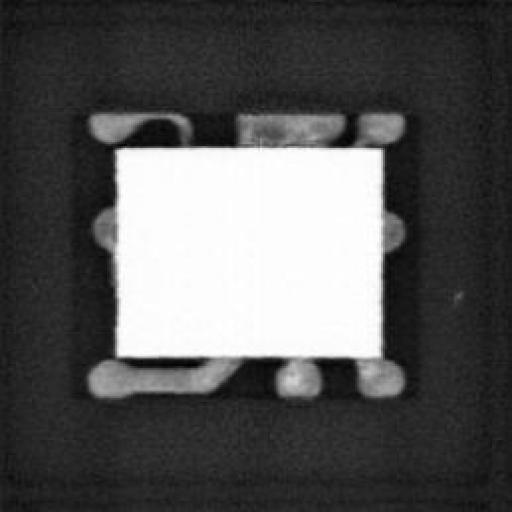DIE_INK: (446, 283, 466, 307)
